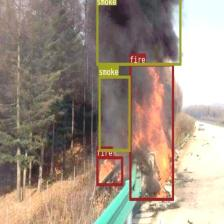fire: (130, 62, 174, 200), (96, 156, 122, 185)
smoke: (97, 0, 181, 65), (98, 75, 130, 151)
